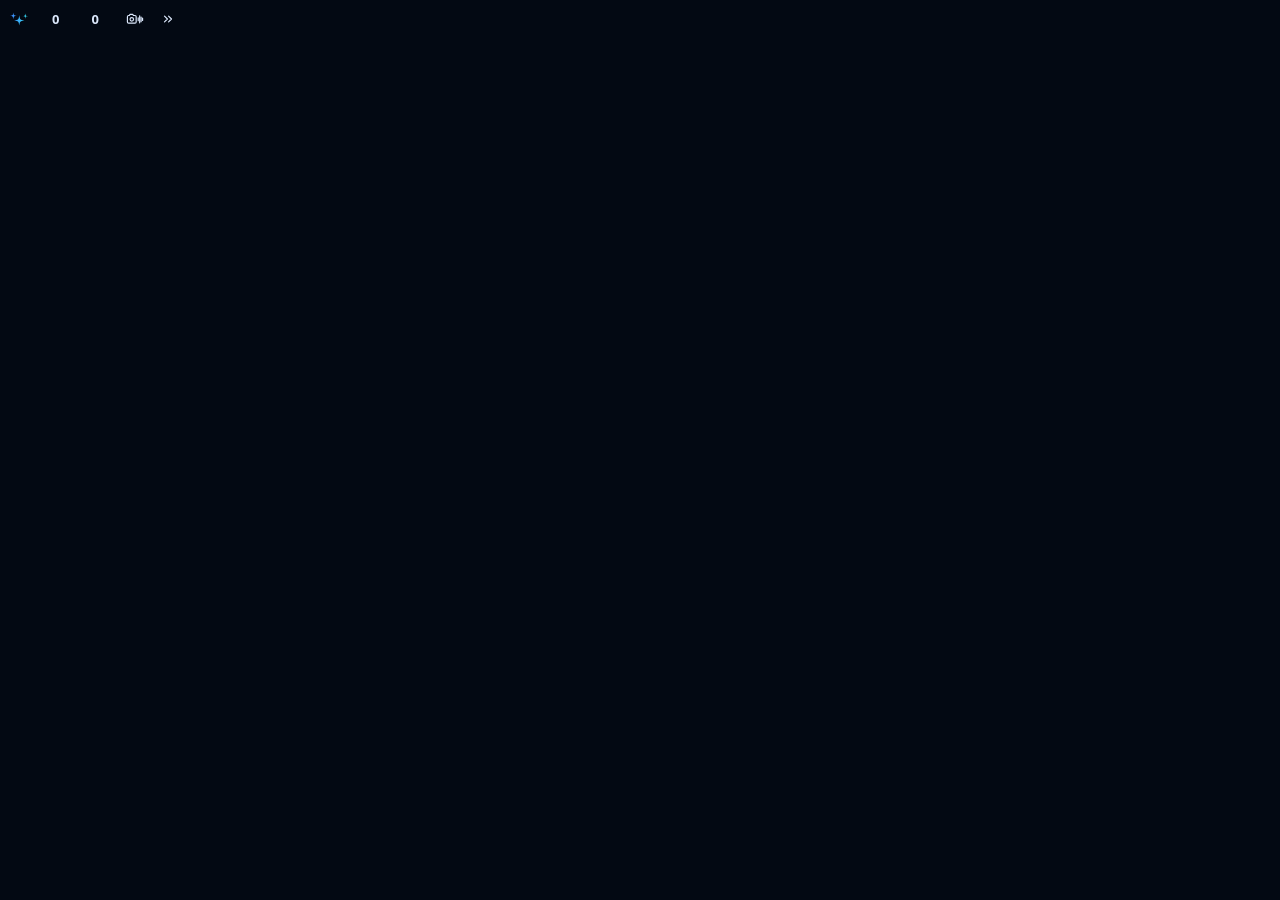
Scenario: HelperApp › dismisses the context menu on an outside click
Expected: the button with test id "helper-needs-you" is shown, [32,7,67,31]
Right-click the element with test id "helper-root": {"x": 94, "y": 19} [10,6,179,32]
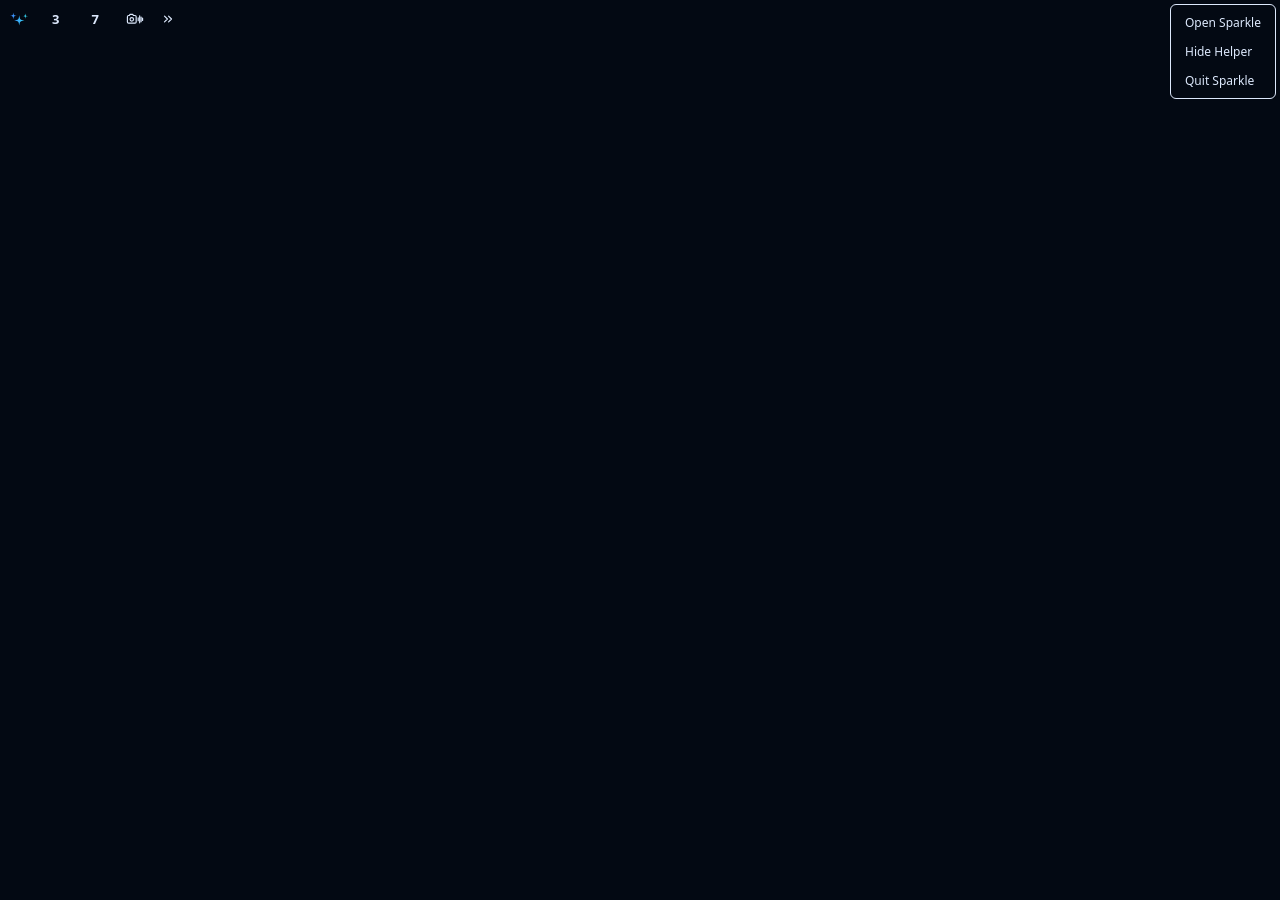
Expected: the menu is shown, [1170,4,1276,99]
Click the element with test id "helper-menu-scrim": {"x": 640, "y": 450} [0,0,1279,899]
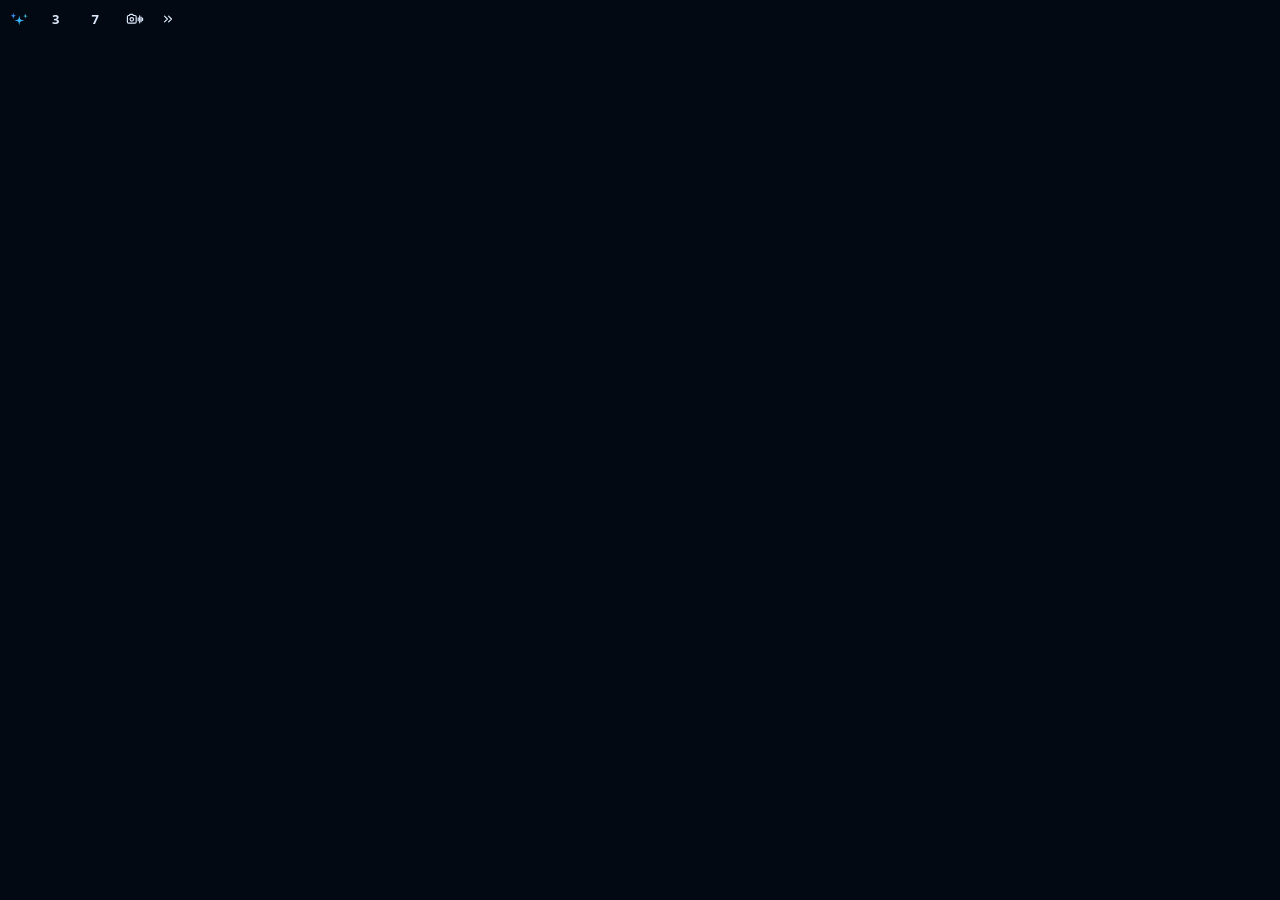
Expected: the menu is gone
